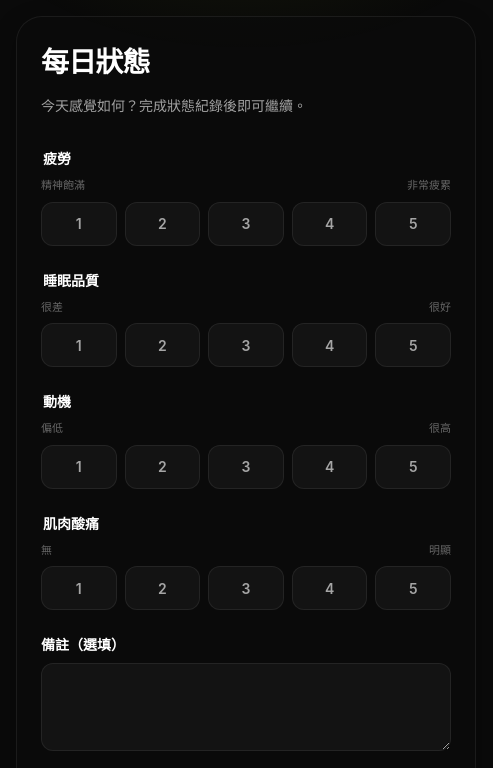
Test: daily check-in integration › requires daily check-in before starting a workout from bottom nav
The image size is (493, 768).
Click the button named "疲勞 3" at (246, 224), box [208, 202, 284, 246]
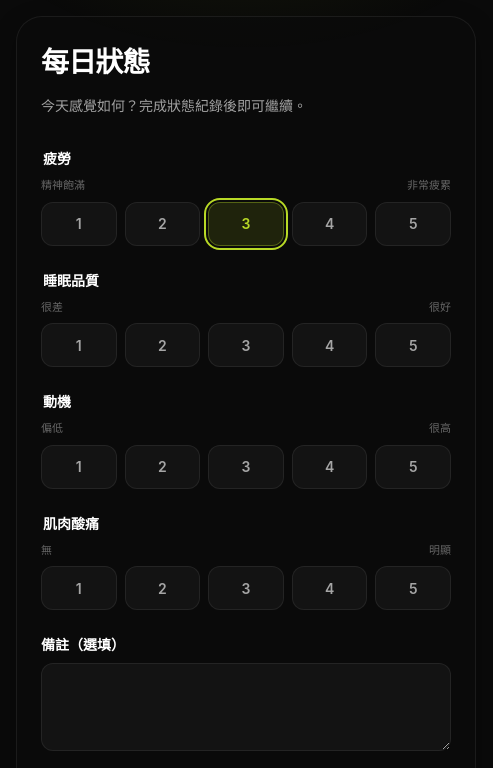
Click the button named "睡眠品質 4" at (330, 345), box [292, 323, 367, 367]
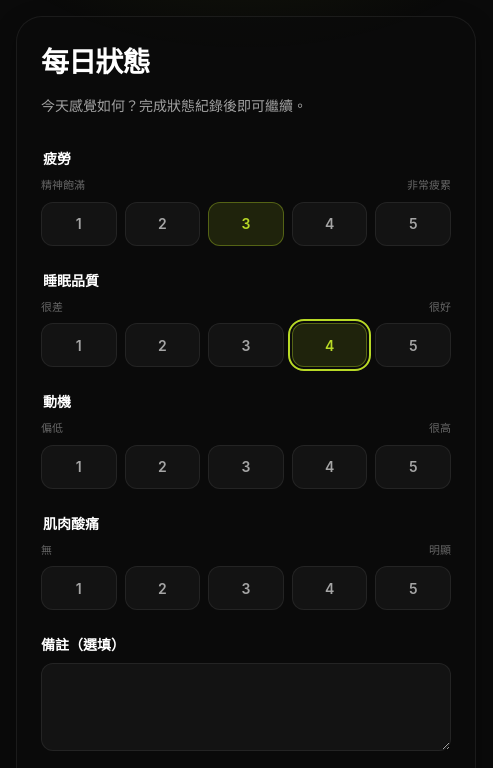
Click the button named "動機 4" at (330, 466), box [292, 444, 367, 488]
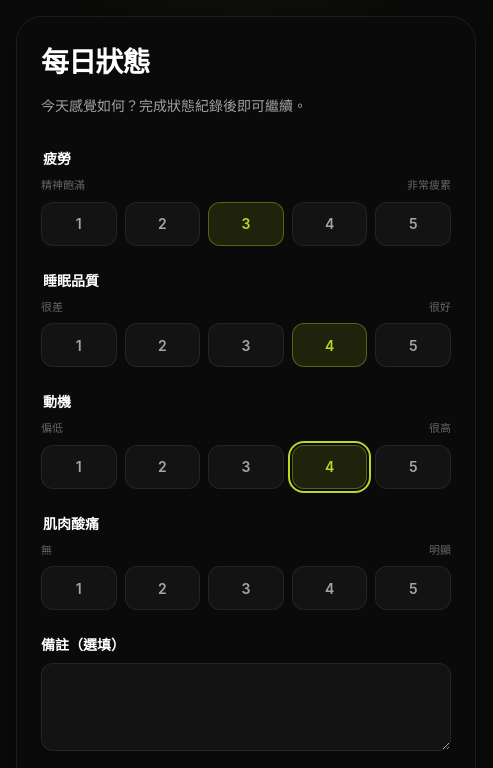
Click the button named "肌肉酸痛 2" at (162, 588), box [125, 566, 200, 610]
(page scrolled)
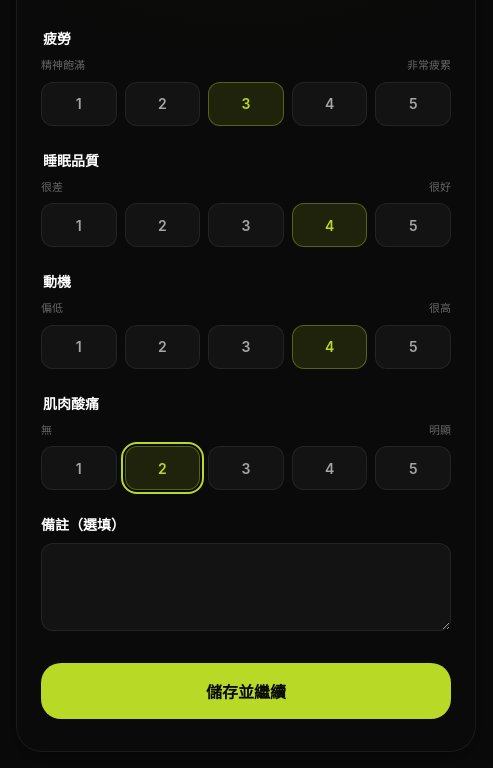
Click the button "儲存並繼續" at (246, 691), box [41, 663, 451, 719]
(page scrolled)
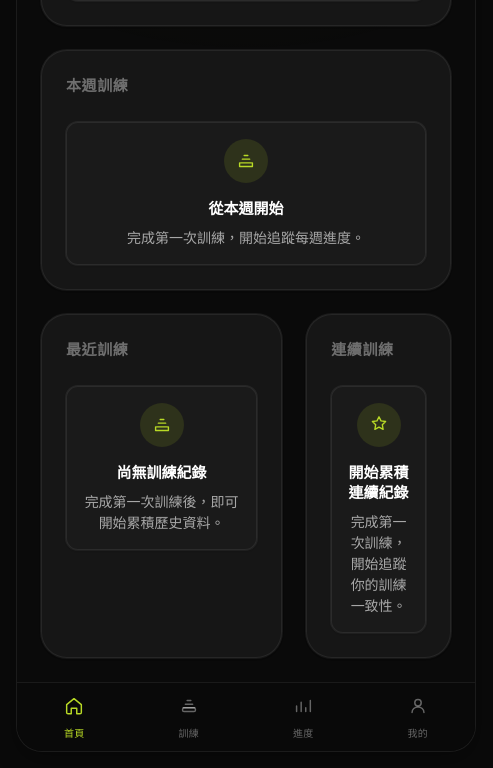
Click the button "訓練" at (189, 717), box [132, 683, 246, 751]
(page scrolled)
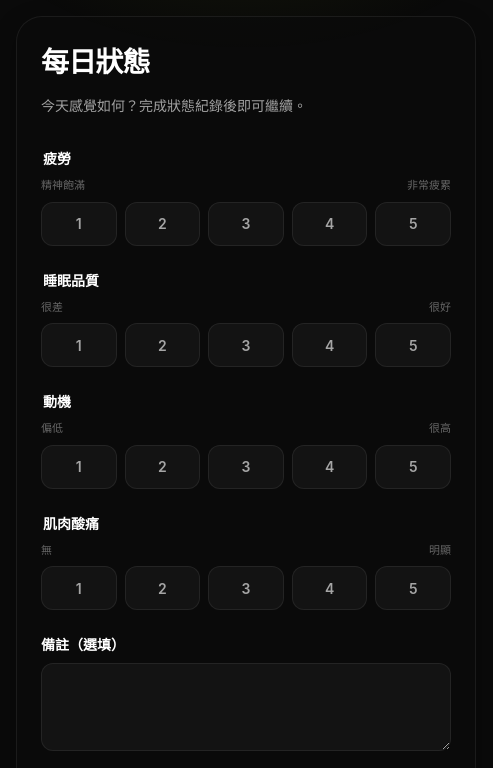
Result: the heading "每日狀態" is shown at [41, 45, 150, 79]
